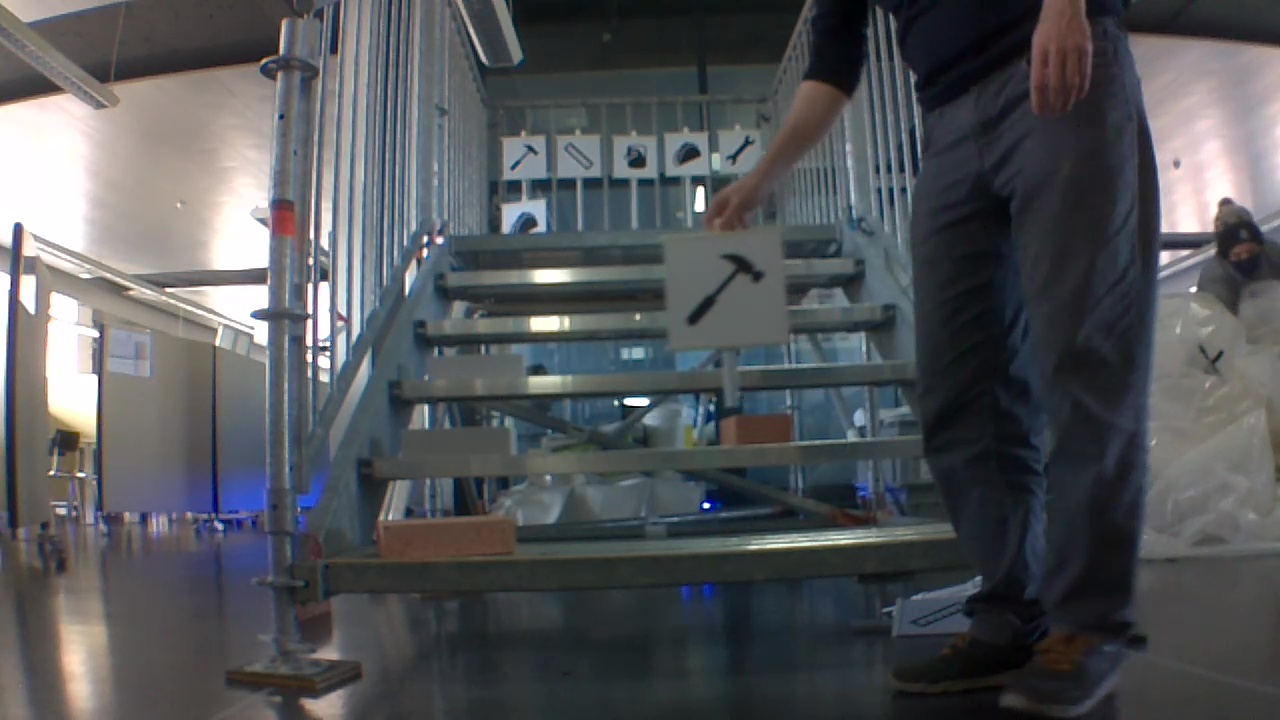brick: (379, 516, 512, 558), (404, 425, 516, 460), (428, 355, 526, 379), (721, 414, 794, 444)
bucket: (621, 140, 650, 171)
edge: (331, 537, 966, 586), (357, 437, 927, 475)
hammer: (679, 245, 772, 331), (507, 140, 540, 172)
ruler: (560, 141, 596, 171)
taco: (506, 207, 539, 232), (671, 139, 701, 166)
wrench: (721, 131, 758, 170)
